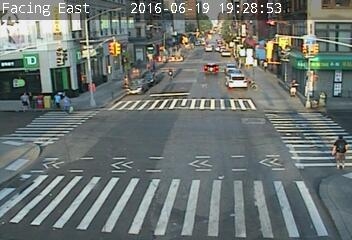neg: (68, 40, 87, 66), (135, 51, 150, 71), (32, 93, 45, 110), (35, 47, 48, 64), (129, 76, 140, 91)
pos: (326, 132, 351, 171), (60, 93, 75, 112), (286, 78, 300, 97), (51, 93, 63, 110)
